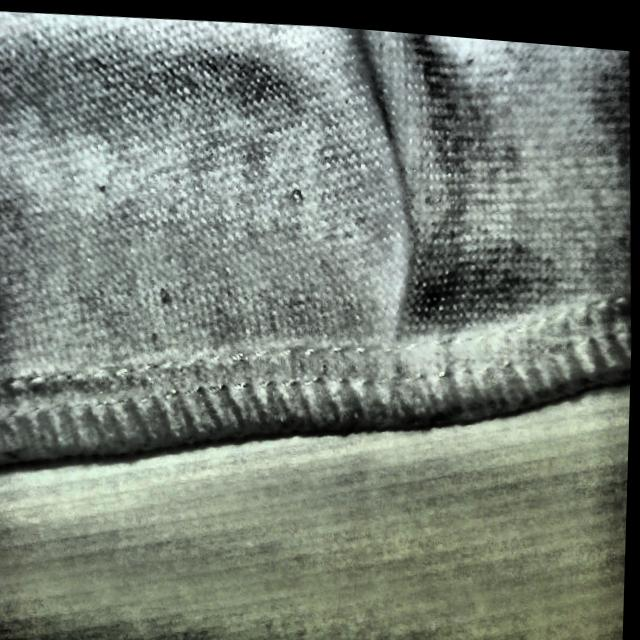seam: (331, 73, 503, 428)
